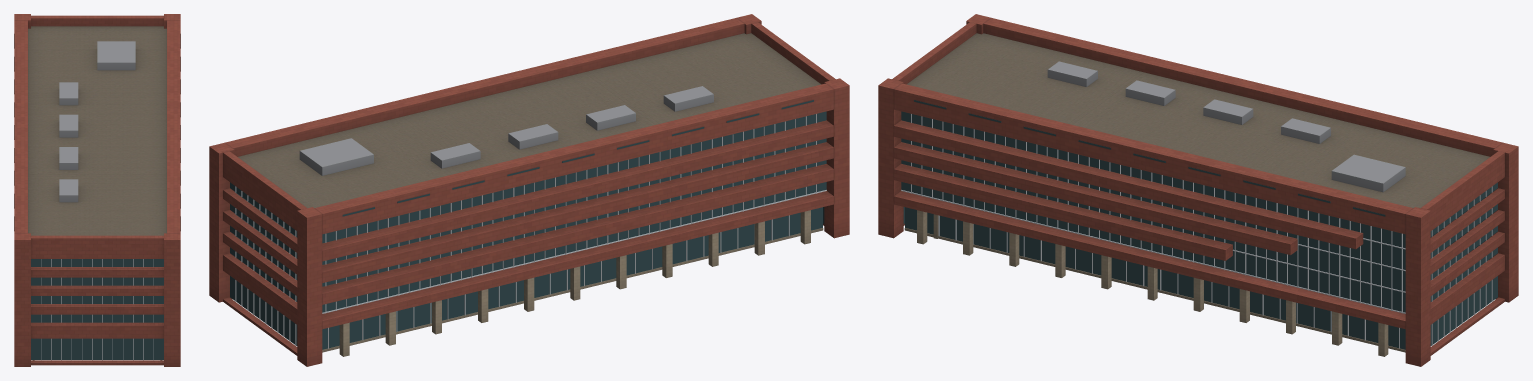
File: ITPO_OFFICE.glb
3 renders of one model, left to right at view 1: azimuth 30°, elevation 25°; view 2: azimuth 150°, elevation 25°; view 3: azimuth 270°, elevation 25°, orthographic. The views are drawn at different scales.
Visible parts, largest first — view 1: ITPO_OFFICE_Stone, ITPO_OFFICE_Glass, ITPO_OFFICE_Metal; view 2: ITPO_OFFICE_Stone, ITPO_OFFICE_Glass, ITPO_OFFICE_Metal; view 3: ITPO_OFFICE_Stone, ITPO_OFFICE_Glass, ITPO_OFFICE_Metal.
Part boxes in pixels (left/top/right/bottom): ITPO_OFFICE_Stone: left=14, top=14, right=180, bottom=366; ITPO_OFFICE_Glass: left=14, top=34, right=180, bottom=359; ITPO_OFFICE_Metal: left=41, top=259, right=153, bottom=360; ITPO_OFFICE_Stone: left=209, top=14, right=849, bottom=366; ITPO_OFFICE_Glass: left=230, top=100, right=826, bottom=349; ITPO_OFFICE_Metal: left=235, top=114, right=826, bottom=348; ITPO_OFFICE_Stone: left=878, top=14, right=1518, bottom=366; ITPO_OFFICE_Glass: left=901, top=100, right=1497, bottom=349; ITPO_OFFICE_Metal: left=901, top=114, right=1492, bottom=348.
Bounding box in the file's own units: 64.51 × 22 × 85.62.
Materials: 3 (1 with a texture image).
